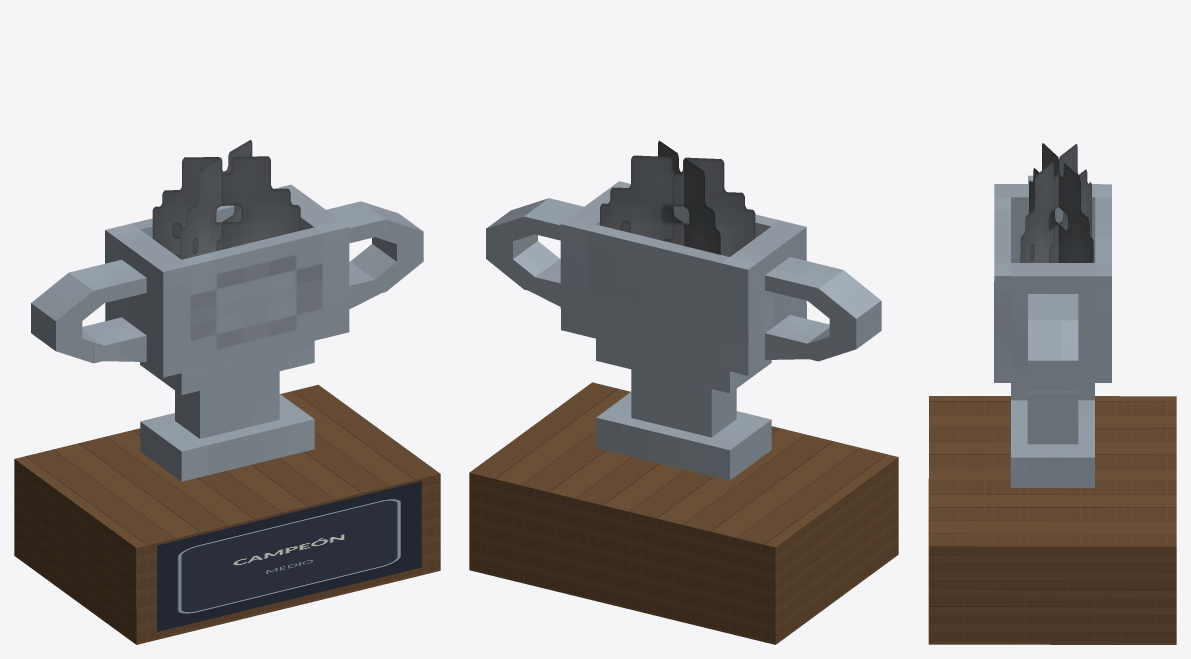
The model's file is Campeon_medio.obj.
3 views of the same model, side by side, from view 1: azimuth 30°, elevation 25°; view 2: azimuth 150°, elevation 25°; view 3: azimuth 270°, elevation 25° (orthographic).
Visible parts, largest first — view 1: 35_Peana_Campeon_Medio, 35_PeanaTexto_Campeon_Medio, 36_ModeloOriginalSketchfab_Campeon_Medio_cube_1, 36_ModeloOriginalSketchfab_Campeon_Medio_cube_3, 36_ModeloOriginalSketchfab_Campeon_Medio_cube_20, 36_ModeloOriginalSketchfab_Campeon_Medio_cube_18, 36_ModeloOriginalSketchfab_Campeon_Medio_cube_17, 36_ModeloOriginalSketchfab_Campeon_Medio_cube_2, 36_ModeloOriginalSketchfab_Campeon_Medio_cube_19, 36_ModeloOriginalSketchfab_Campeon_Medio_cube_16, 36_ModeloOriginalSketchfab_Campeon_Medio_cube_13, 36_ModeloOriginalSketchfab_Campeon_Medio_cube_12 (+8 smaller); view 2: 35_Peana_Campeon_Medio, 36_ModeloOriginalSketchfab_Campeon_Medio_cube, 36_ModeloOriginalSketchfab_Campeon_Medio_cube_3, 36_ModeloOriginalSketchfab_Campeon_Medio_cube_19, 36_ModeloOriginalSketchfab_Campeon_Medio_cube_18, 36_ModeloOriginalSketchfab_Campeon_Medio_cube_17, 36_ModeloOriginalSketchfab_Campeon_Medio_cube_2, 36_ModeloOriginalSketchfab_Campeon_Medio_cube_16, 36_ModeloOriginalSketchfab_Campeon_Medio_cube_20, 36_ModeloOriginalSketchfab_Campeon_Medio_cube_13, 36_ModeloOriginalSketchfab_Campeon_Medio_cube_12, 36_ModeloOriginalSketchfab_Campeon_Medio_cube_9 (+7 smaller); view 3: 35_Peana_Campeon_Medio, 36_ModeloOriginalSketchfab_Campeon_Medio_cube_2, 36_ModeloOriginalSketchfab_Campeon_Medio_cube_18, 36_ModeloOriginalSketchfab_Campeon_Medio_cube_20, 36_ModeloOriginalSketchfab_Campeon_Medio_cube_19, 36_ModeloOriginalSketchfab_Campeon_Medio_cube_17, 36_ModeloOriginalSketchfab_Campeon_Medio_cube_7, 36_ModeloOriginalSketchfab_Campeon_Medio_cube_3, 36_ModeloOriginalSketchfab_Campeon_Medio_cube_8, 36_ModeloOriginalSketchfab_Campeon_Medio_cube_4, 36_ModeloOriginalSketchfab_Campeon_Medio_cube_1, 36_ModeloOriginalSketchfab_Campeon_Medio_cube (+1 smaller).
Boxes of the visible parts, <box> form: 35_Peana_Campeon_Medio: <box>14,384,440,644</box>; 35_PeanaTexto_Campeon_Medio: <box>157,481,421,631</box>; 36_ModeloOriginalSketchfab_Campeon_Medio_cube_1: <box>182,227,322,370</box>; 36_ModeloOriginalSketchfab_Campeon_Medio_cube_3: <box>105,223,189,377</box>; 36_ModeloOriginalSketchfab_Campeon_Medio_cube_20: <box>152,156,300,258</box>; 36_ModeloOriginalSketchfab_Campeon_Medio_cube_18: <box>140,394,314,481</box>; 36_ModeloOriginalSketchfab_Campeon_Medio_cube_17: <box>175,371,279,438</box>; 36_ModeloOriginalSketchfab_Campeon_Medio_cube_2: <box>274,184,349,338</box>; 36_ModeloOriginalSketchfab_Campeon_Medio_cube_19: <box>180,140,252,259</box>; 36_ModeloOriginalSketchfab_Campeon_Medio_cube_16: <box>140,341,314,394</box>; 36_ModeloOriginalSketchfab_Campeon_Medio_cube_13: <box>69,259,146,305</box>; 36_ModeloOriginalSketchfab_Campeon_Medio_cube_12: <box>31,273,103,320</box>; 35_Peana_Campeon_Medio: <box>469,382,898,644</box>; 36_ModeloOriginalSketchfab_Campeon_Medio_cube: <box>587,224,729,369</box>; 36_ModeloOriginalSketchfab_Campeon_Medio_cube_3: <box>721,220,806,375</box>; 36_ModeloOriginalSketchfab_Campeon_Medio_cube_19: <box>600,155,755,256</box>; 36_ModeloOriginalSketchfab_Campeon_Medio_cube_18: <box>596,392,771,480</box>; 36_ModeloOriginalSketchfab_Campeon_Medio_cube_17: <box>631,369,736,437</box>; 36_ModeloOriginalSketchfab_Campeon_Medio_cube_2: <box>560,181,630,336</box>; 36_ModeloOriginalSketchfab_Campeon_Medio_cube_16: <box>596,338,771,393</box>; 36_ModeloOriginalSketchfab_Campeon_Medio_cube_20: <box>658,140,720,254</box>; 36_ModeloOriginalSketchfab_Campeon_Medio_cube_13: <box>765,257,842,303</box>; 36_ModeloOriginalSketchfab_Campeon_Medio_cube_12: <box>808,270,880,318</box>; 36_ModeloOriginalSketchfab_Campeon_Medio_cube_9: <box>765,315,829,361</box>; 35_Peana_Campeon_Medio: <box>928,396,1176,644</box>; 36_ModeloOriginalSketchfab_Campeon_Medio_cube_2: <box>994,263,1111,382</box>; 36_ModeloOriginalSketchfab_Campeon_Medio_cube_18: <box>1010,397,1094,487</box>; 36_ModeloOriginalSketchfab_Campeon_Medio_cube_20: <box>1020,144,1091,262</box>; 36_ModeloOriginalSketchfab_Campeon_Medio_cube_19: <box>1029,143,1093,262</box>; 36_ModeloOriginalSketchfab_Campeon_Medio_cube_17: <box>1027,400,1078,444</box>; 36_ModeloOriginalSketchfab_Campeon_Medio_cube_7: <box>1028,320,1078,360</box>; 36_ModeloOriginalSketchfab_Campeon_Medio_cube_3: <box>994,184,1111,294</box>; 36_ModeloOriginalSketchfab_Campeon_Medio_cube_8: <box>1028,360,1078,390</box>; 36_ModeloOriginalSketchfab_Campeon_Medio_cube_4: <box>1028,294,1078,320</box>; 36_ModeloOriginalSketchfab_Campeon_Medio_cube_1: <box>994,197,1010,359</box>; 36_ModeloOriginalSketchfab_Campeon_Medio_cube: <box>1095,197,1111,262</box>.
Bounding box in the file's own units: 0.5117 × 0.6903 × 0.2964.
